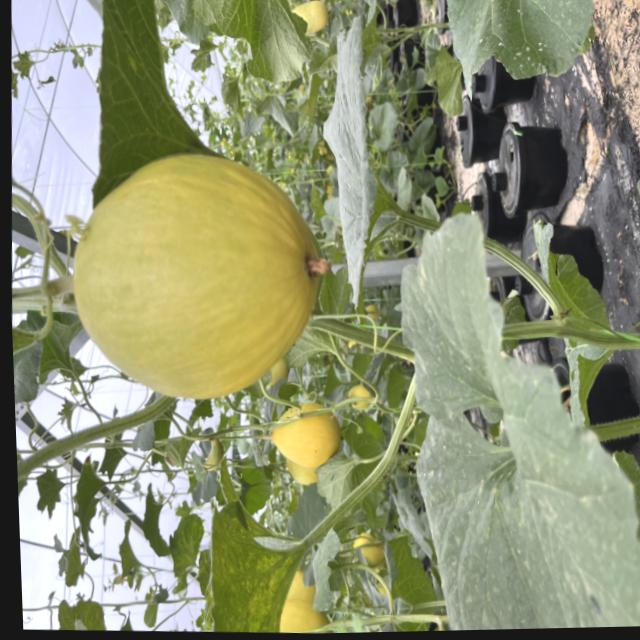downy mildew: (382, 201, 640, 632), (189, 502, 308, 635), (304, 522, 350, 614), (620, 150, 640, 316)
healthy: (310, 27, 410, 290), (181, 0, 313, 86)
powdery mildew: (442, 0, 598, 84)
